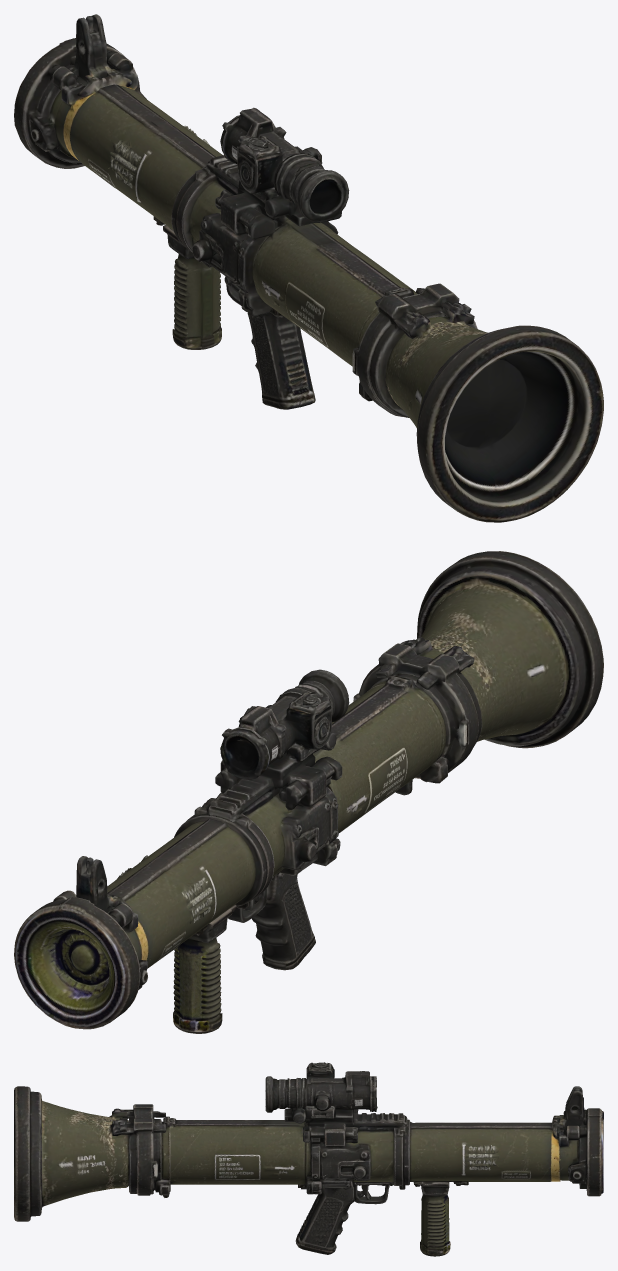
The model's file is launcher.glb.
3 views of the same model, one above another, from view 1: azimuth 30°, elevation 25°; view 2: azimuth 150°, elevation 25°; view 3: azimuth 270°, elevation 25° (orthographic). The views are drawn at different scales.
Visible parts, largest first — view 1: tripo_node_c4a2c187-00a7-460d-a6bc-8d9ae662d157; view 2: tripo_node_c4a2c187-00a7-460d-a6bc-8d9ae662d157; view 3: tripo_node_c4a2c187-00a7-460d-a6bc-8d9ae662d157.
Part boxes in pixels (x1,y1,x2,y2): tripo_node_c4a2c187-00a7-460d-a6bc-8d9ae662d157: (14, 14, 603, 522); tripo_node_c4a2c187-00a7-460d-a6bc-8d9ae662d157: (14, 551, 603, 1033); tripo_node_c4a2c187-00a7-460d-a6bc-8d9ae662d157: (14, 1062, 603, 1256).
Size of the model in its own units: 0.225 by 0.3272 by 0.9811.
1 material, 1 textured.
